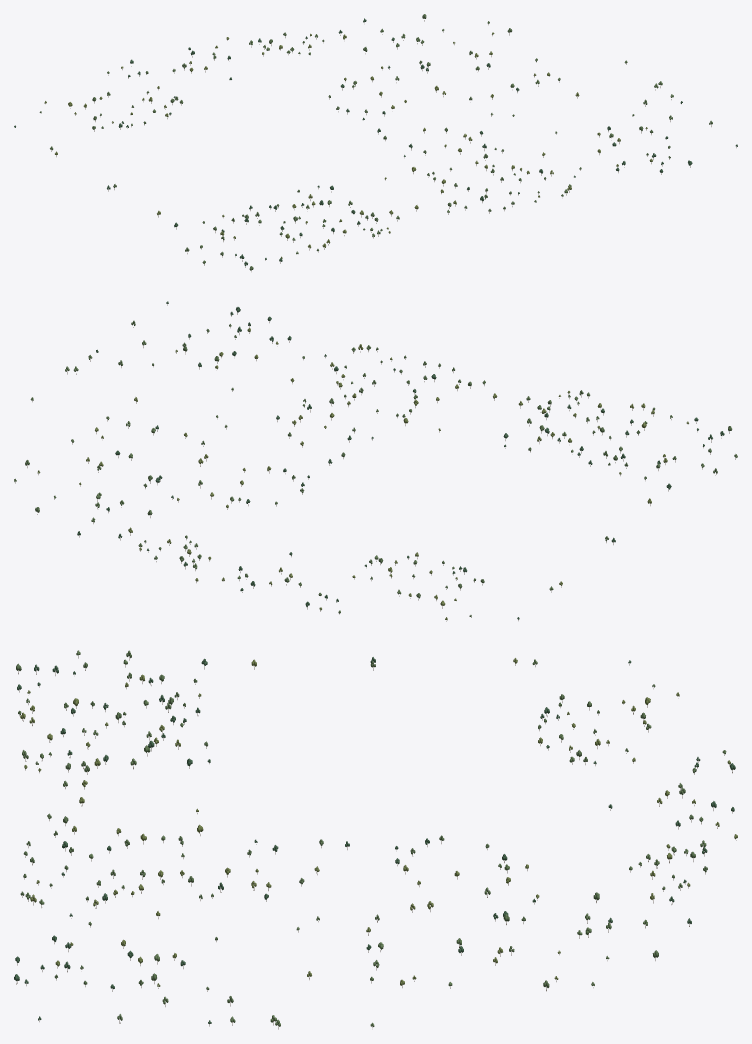
File: trees.glb
3 renders of one model, top to bottom at view 1: azimuth 30°, elevation 25°; view 2: azimuth 150°, elevation 25°; view 3: azimuth 270°, elevation 25°, orthographic. The views are drawn at different scales.
Visible parts, largest first — view 1: context-trees-rebuilt; view 2: context-trees-rebuilt; view 3: context-trees-rebuilt.
Boxes of the visible parts, x1,y1,x2,y2 form: context-trees-rebuilt: [14, 14, 737, 271]; context-trees-rebuilt: [14, 301, 737, 621]; context-trees-rebuilt: [14, 650, 737, 1029].
Size of the model in its own units: 1145 by 41.78 by 943.
